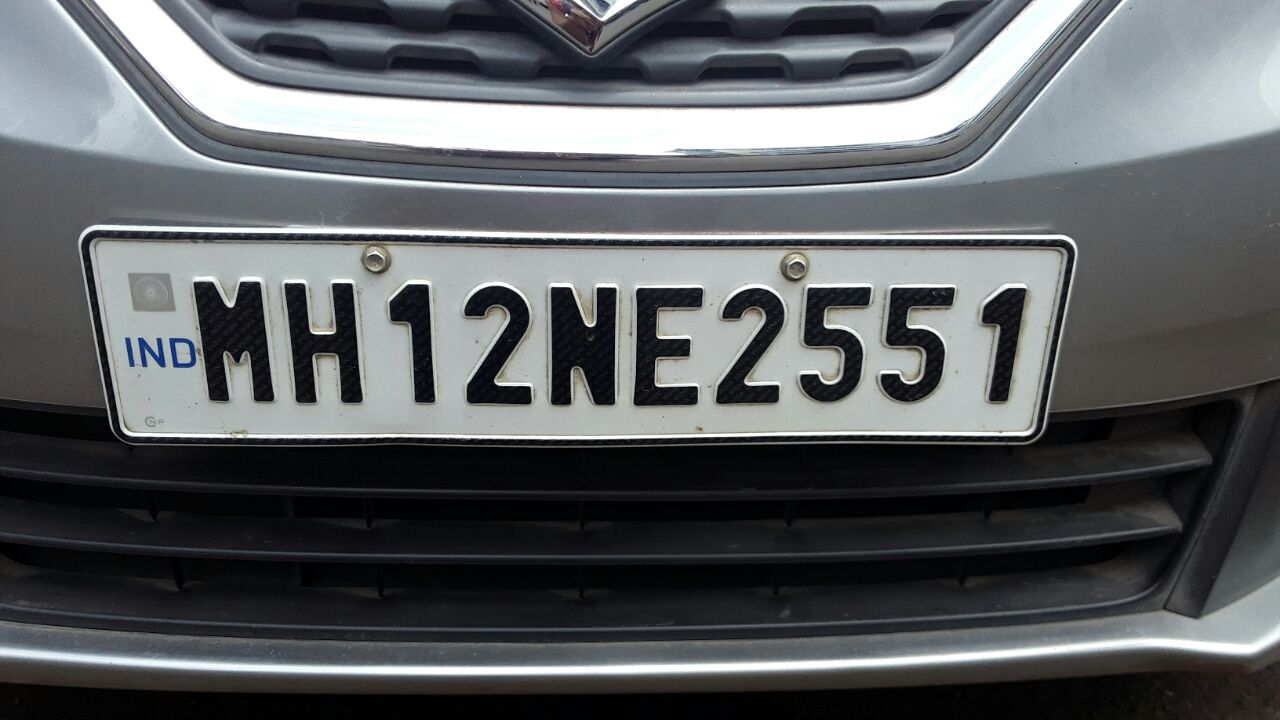licenseplate: (72, 213, 1085, 453)
